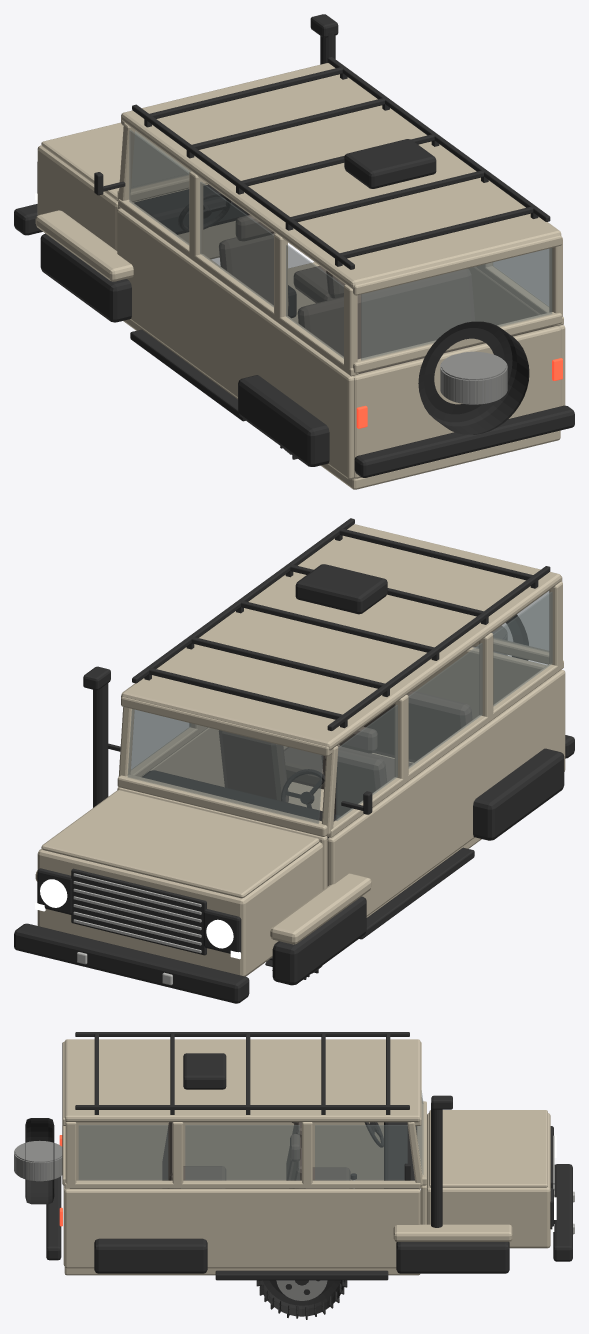
The model's file is DCar.fbx.
3 renders of one model, top to bottom at view 1: azimuth 30°, elevation 25°; view 2: azimuth 150°, elevation 25°; view 3: azimuth 270°, elevation 25°, orthographic. The views are drawn at different scales.
Visible parts, largest first — view 1: DCar_Body, DCar_Glass, DCar_Interior, DCar_Steering; view 2: DCar_Body, DCar_Glass, DCar_Interior, DCar_Lamps, DCar_Steering; view 3: DCar_Body, DCar_Glass, DCar_Interior, DCar_Wheel.
Boxes of the visible parts, <box> form: DCar_Body: <box>14,14,574,489</box>; DCar_Glass: <box>129,130,552,360</box>; DCar_Interior: <box>134,184,474,373</box>; DCar_Steering: <box>178,191,230,231</box>; DCar_Body: <box>14,518,574,1003</box>; DCar_Glass: <box>127,591,552,823</box>; DCar_Interior: <box>142,690,472,839</box>; DCar_Lamps: <box>35,879,240,959</box>; DCar_Steering: <box>281,769,324,808</box>; DCar_Body: <box>14,1032,574,1280</box>; DCar_Glass: <box>78,1091,423,1180</box>; DCar_Interior: <box>162,1122,418,1188</box>; DCar_Wheel: <box>256,1280,347,1319</box>.
Size of the model in its own units: 2.25 by 2.66 by 5.2.
